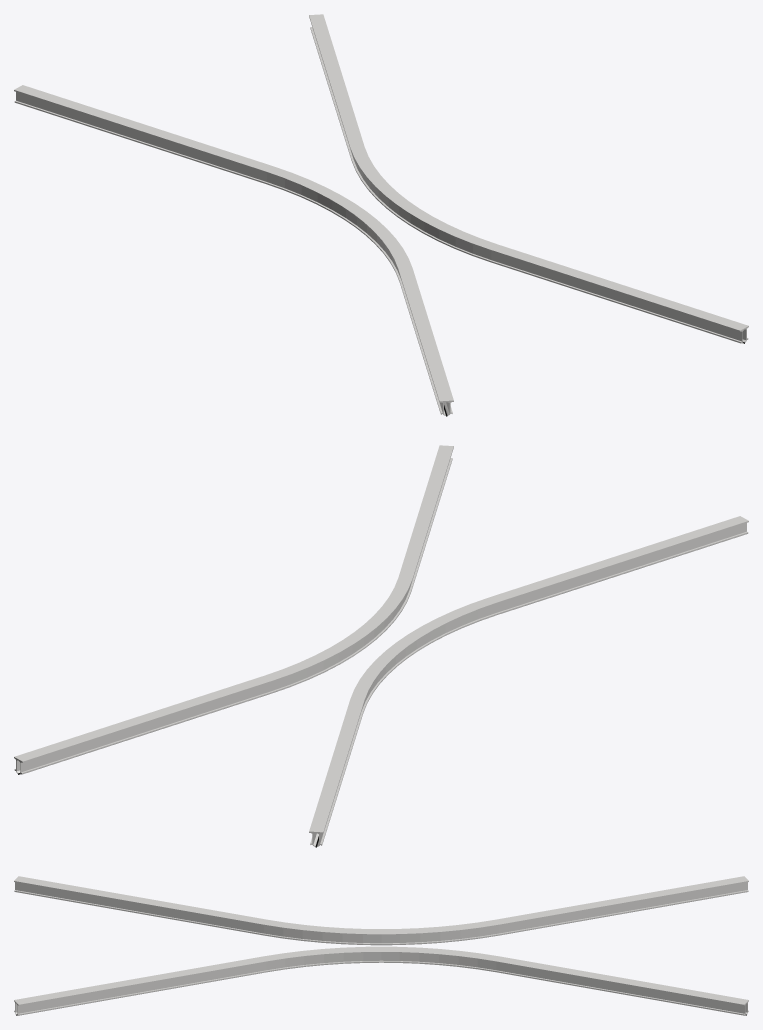
File: catenary_rigid_225d_line.obj
The picture shows the model from 3 angles, top to bottom: view 1: azimuth 30°, elevation 25°; view 2: azimuth 150°, elevation 25°; view 3: azimuth 270°, elevation 25°; orthographic projection. The views are drawn at different scales.
Visible parts, largest first — view 1: 1.003, 1.004, 1.002, 1.001; view 2: 1.001, 1.002, 1.004, 1.003; view 3: 1.001, 1.003, 1.002, 1.004.
Boxes of the visible parts, x1,y1,x2,y2 form: 1.003: [396, 201, 748, 343]; 1.004: [14, 85, 366, 226]; 1.002: [354, 211, 453, 416]; 1.001: [309, 14, 408, 216]; 1.001: [14, 632, 366, 774]; 1.002: [396, 516, 748, 657]; 1.004: [309, 642, 408, 847]; 1.003: [354, 445, 453, 647]; 1.001: [381, 946, 748, 1015]; 1.003: [14, 946, 381, 1015]; 1.002: [14, 876, 381, 945]; 1.004: [381, 876, 748, 945].
Bounding box in the file's own units: 4.63 × 0.225 × 11.18.
Materials: 8 (8 with a texture image).
